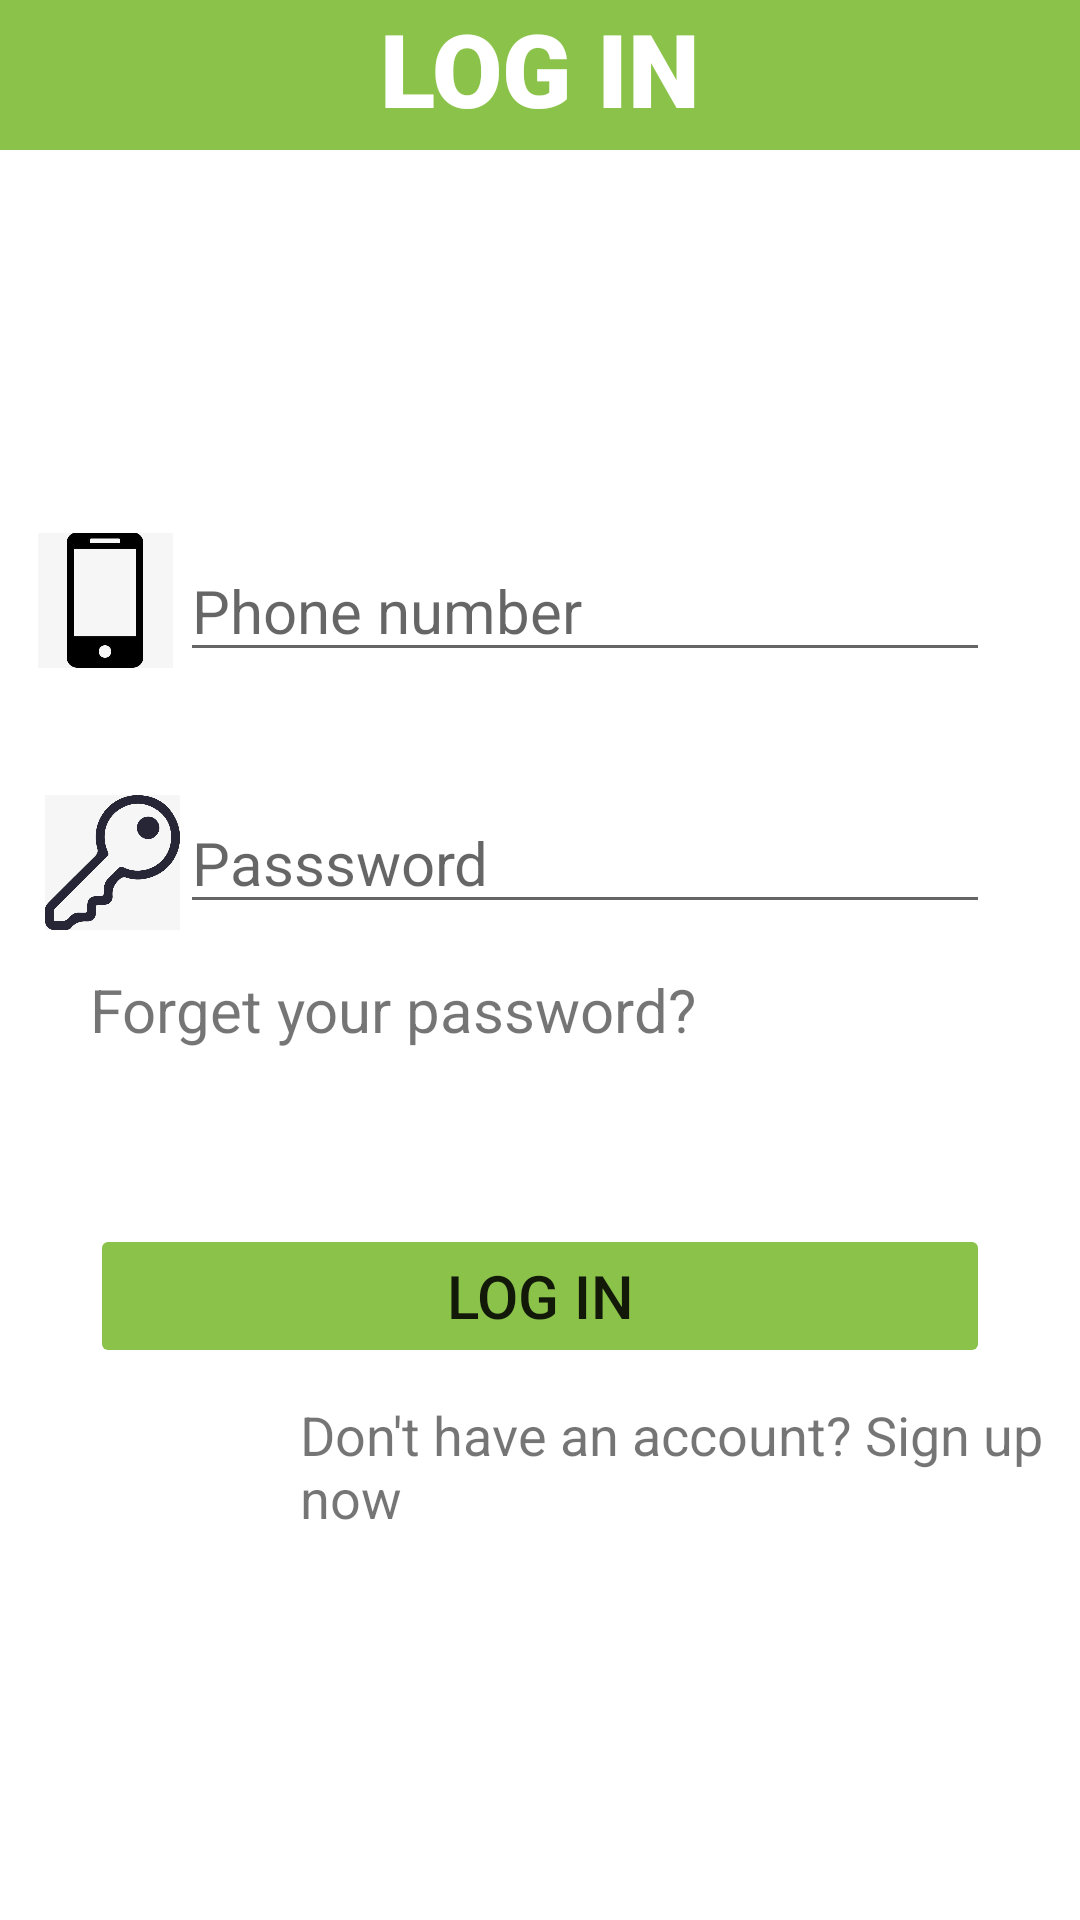

Where icons sit on this 1080w x 1920h app screen, as box=[x1, y1, x2, y2]:
login password: box=[45, 795, 180, 930]
